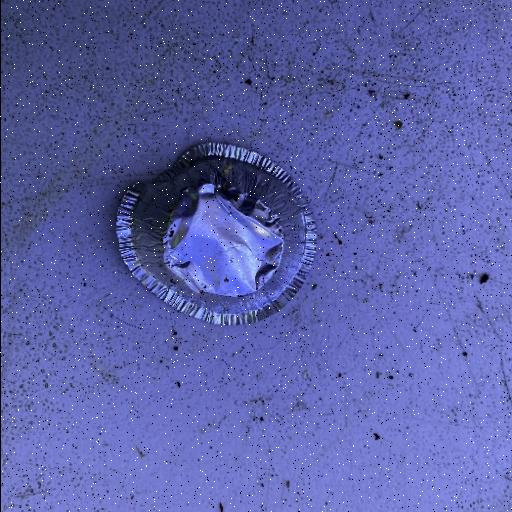Metal: (114, 140, 318, 328)
